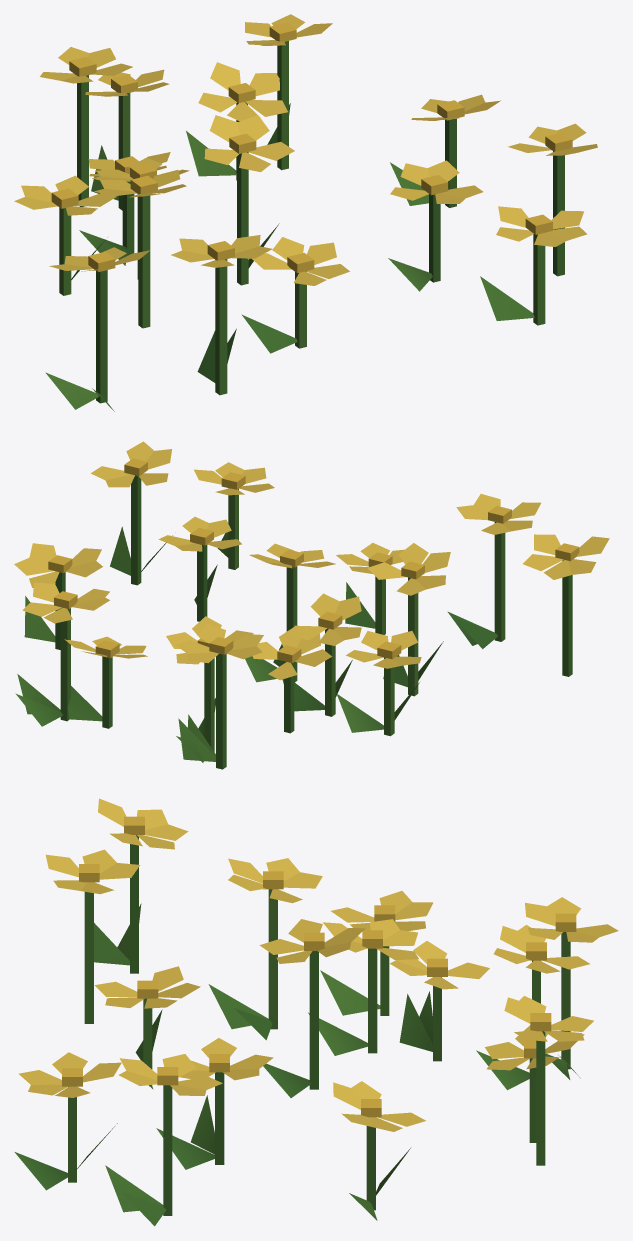
The model's file is FlowersGold.glb.
3 renders of one model, top to bottom at view 1: azimuth 30°, elevation 25°; view 2: azimuth 150°, elevation 25°; view 3: azimuth 270°, elevation 25°, orthographic. The views are drawn at different scales.
Visible parts, largest first — view 1: Petals.003, Stems.003; view 2: Petals.003, Stems.003; view 3: Petals.003, Stems.003.
Part boxes in pixels (x1,y1,x2,y2): Petals.003: (14,14,597,285); Stems.003: (45,41,564,411); Petals.003: (14,441,609,680); Stems.003: (15,475,572,769); Petals.003: (18,798,618,1131); Stems.003: (14,835,580,1226).
Bounding box in the file's own units: 5.26 × 1.34 × 4.64.
